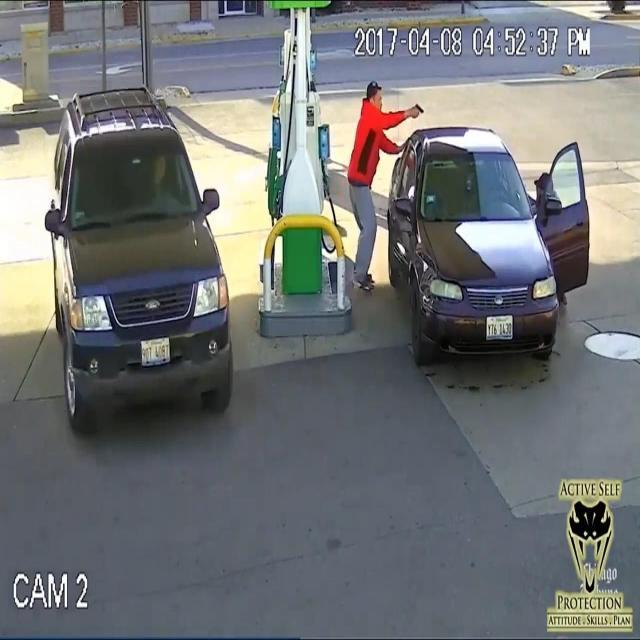pistol: (406, 102, 426, 121)
